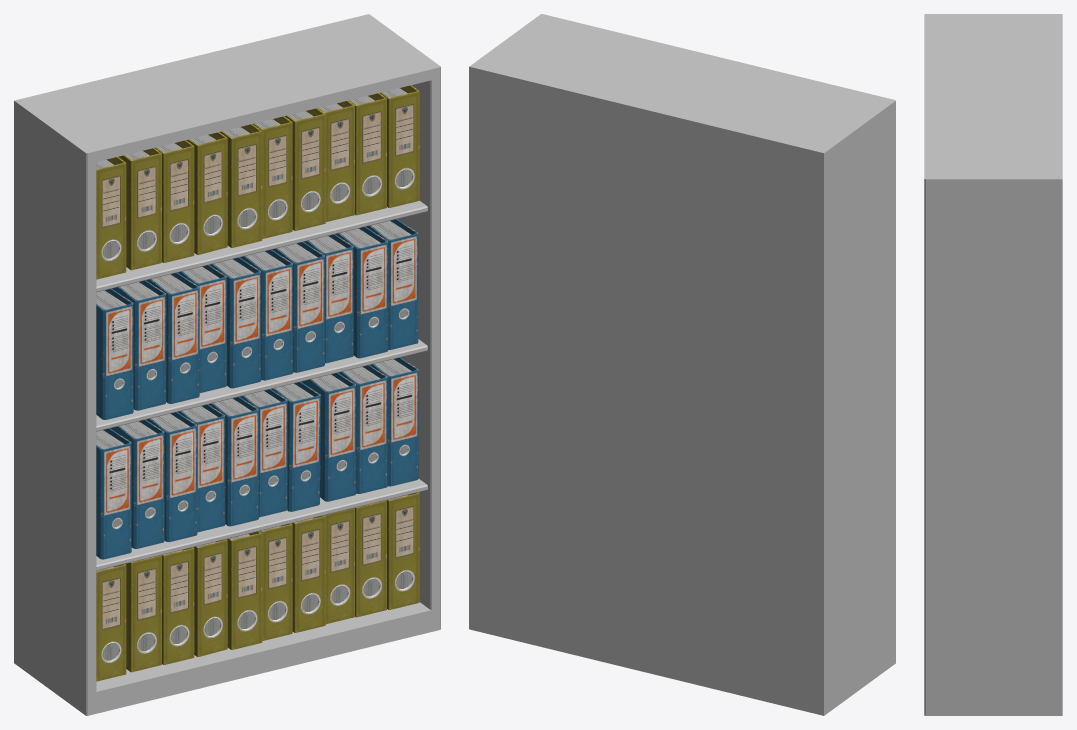
The model's file is SM_Shelf_09_Full.fbx.
3 renders of one model, left to right at view 1: azimuth 30°, elevation 25°; view 2: azimuth 150°, elevation 25°; view 3: azimuth 270°, elevation 25°, orthographic. The views are drawn at different scales.
Visible parts, largest first — view 1: SM_Shelf_09_Full_LOD0; view 2: SM_Shelf_09_Full_LOD0; view 3: SM_Shelf_09_Full_LOD0.
Boxes of the visible parts, x1,y1,x2,y2 form: SM_Shelf_09_Full_LOD0: [14, 14, 440, 715]; SM_Shelf_09_Full_LOD0: [469, 14, 895, 715]; SM_Shelf_09_Full_LOD0: [924, 14, 1062, 715].
Size of the model in its own units: 170 by 60 by 257.
